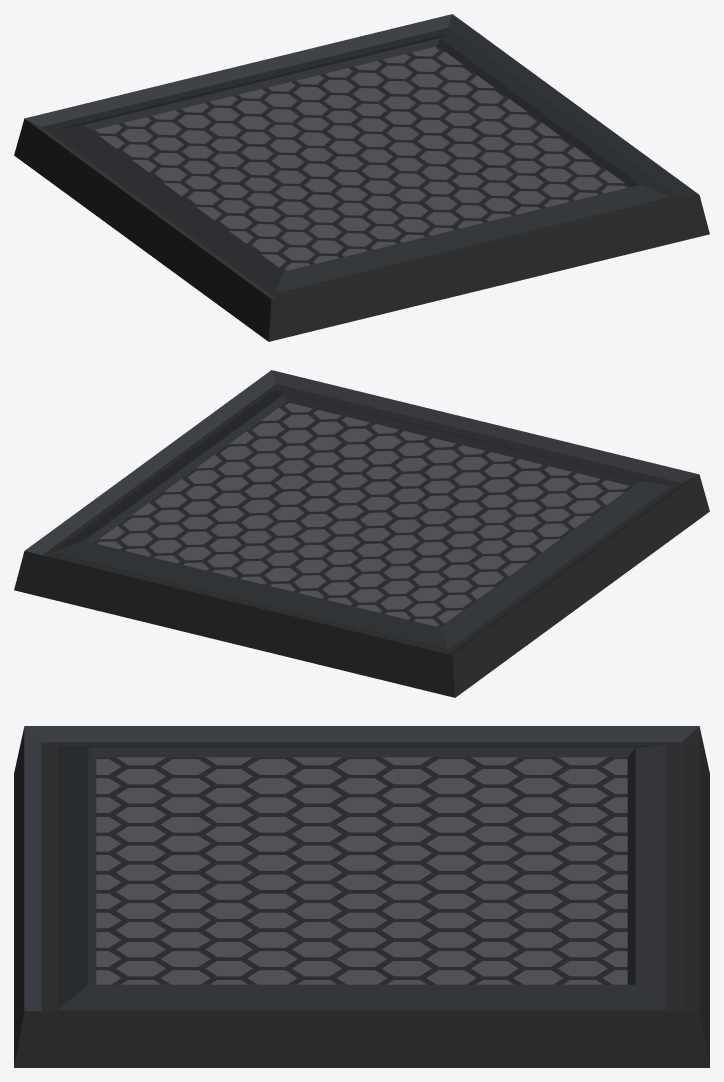
The model's file is SM_Bld_Floor_Small_04.fbx.
The picture shows the model from 3 angles, top to bottom: view 1: azimuth 30°, elevation 25°; view 2: azimuth 150°, elevation 25°; view 3: azimuth 270°, elevation 25°; orthographic projection. The views are drawn at different scales.
Parts seen in each view (by area): view 1: SM_Bld_Floor_Small_04; view 2: SM_Bld_Floor_Small_04; view 3: SM_Bld_Floor_Small_04.
Boxes of the visible parts, x1,y1,x2,y2 form: SM_Bld_Floor_Small_04: (14,14,709,341); SM_Bld_Floor_Small_04: (14,370,709,697); SM_Bld_Floor_Small_04: (14,726,709,1067).
Bounding box in the file's own units: 250 × 21.66 × 250.
1 material, 1 textured.
